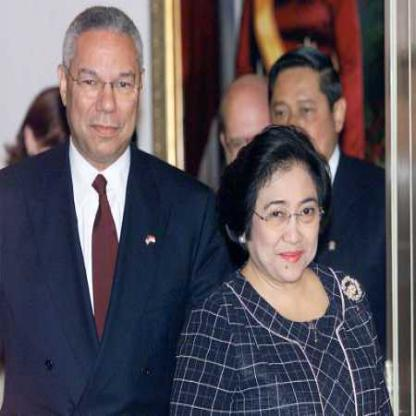face: (246, 140, 325, 286), (68, 11, 144, 160), (268, 54, 337, 172)
